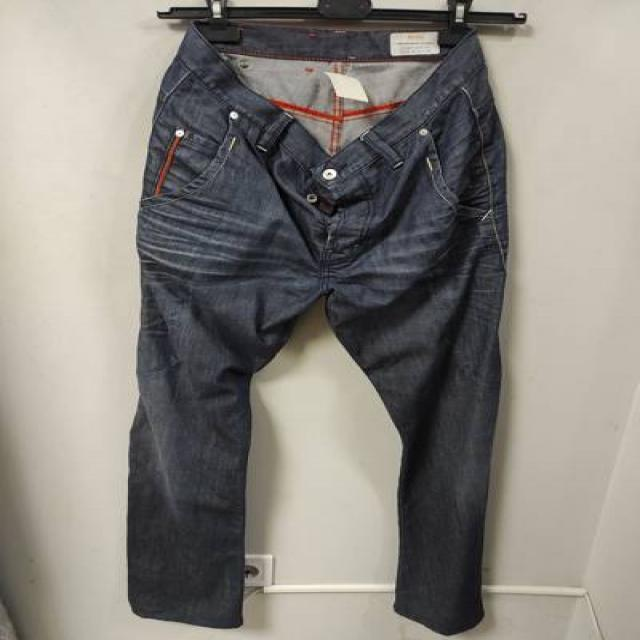Clothes -Biodegradable-: (123, 19, 507, 636)
